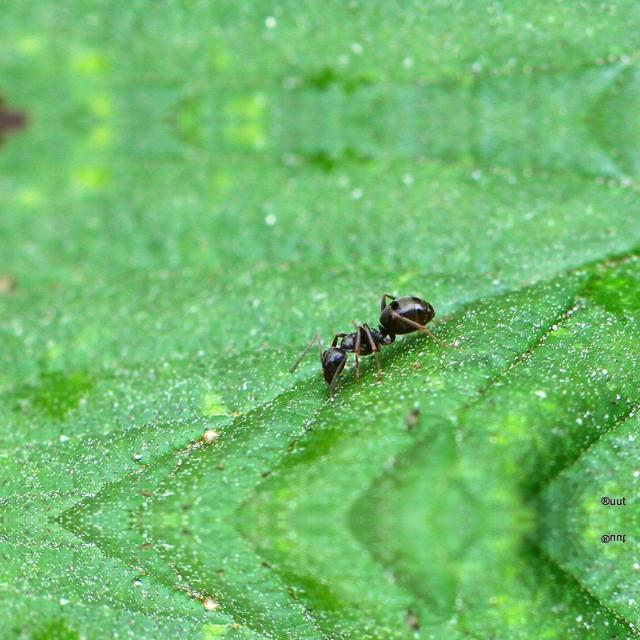Formica: (304, 272, 446, 396)
